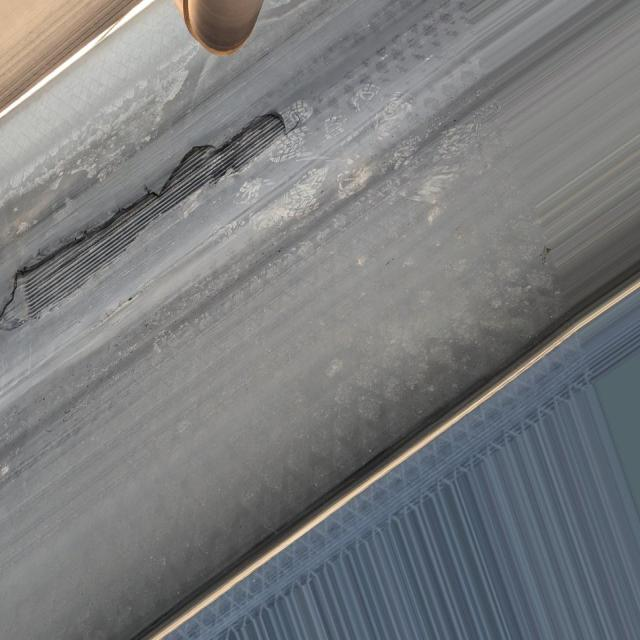Roller: (171, 1, 264, 62)
Tear: (0, 102, 302, 334)
